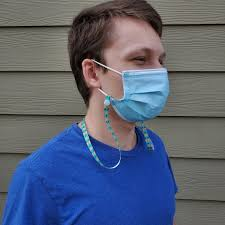with-mask: (65, 1, 172, 126)
